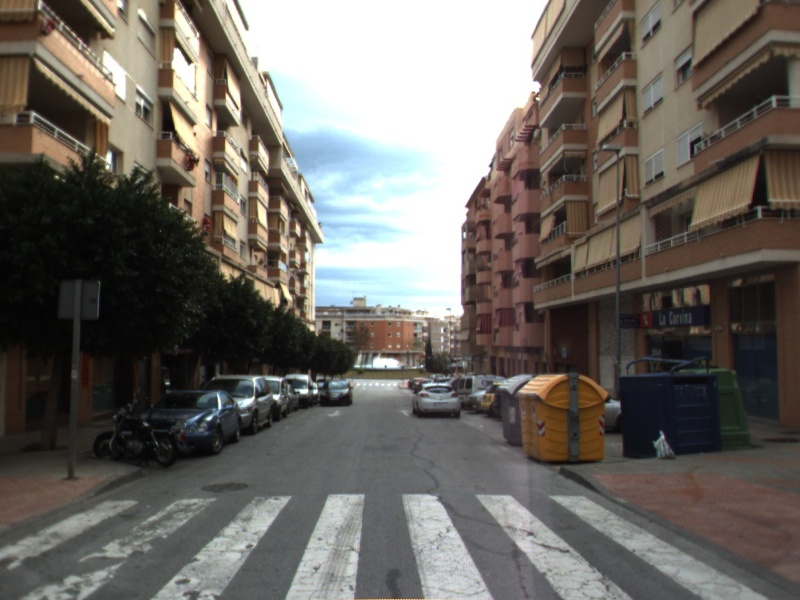STRAIGHT: (395, 407, 413, 418)
